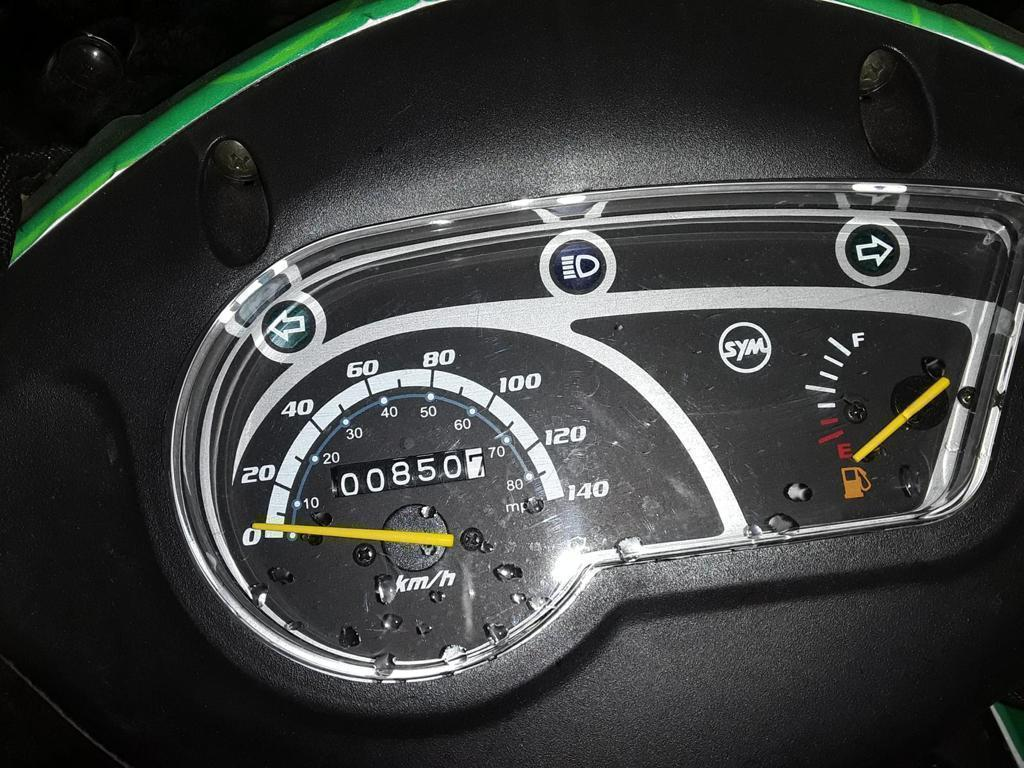0: (336, 471, 361, 496), (442, 453, 463, 481), (364, 468, 387, 493), (331, 450, 342, 463)
5: (416, 455, 439, 482)
7: (468, 453, 485, 478)
8: (390, 459, 411, 486)
odometer: (328, 446, 487, 499)
